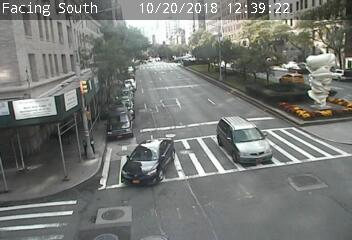car: (217, 116, 273, 164), (122, 138, 176, 186)
